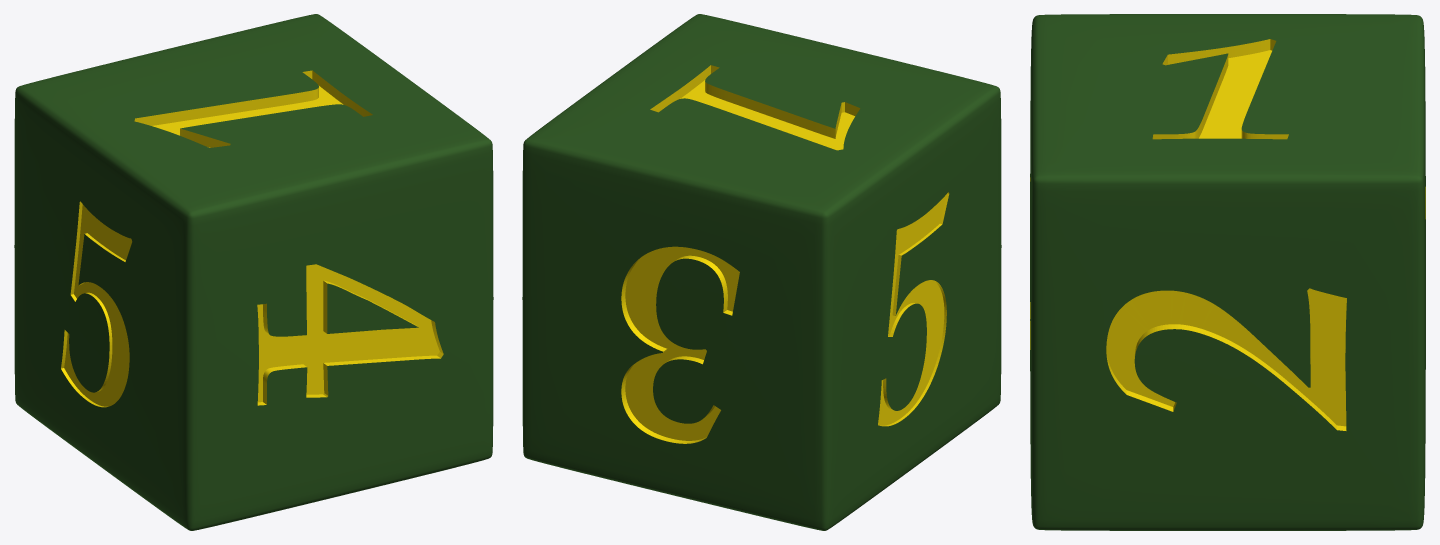
3 renders of one model, left to right at view 1: azimuth 30°, elevation 25°; view 2: azimuth 150°, elevation 25°; view 3: azimuth 270°, elevation 25°, orthographic. The views are drawn at different scales.
Visible parts, largest first — view 1: D6; view 2: D6; view 3: D6.
Part boxes in pixels (<box>): D6: <box>14,14,493,530</box>; D6: <box>522,14,1001,530</box>; D6: <box>1030,14,1425,530</box>.
Size of what is drawn, in the model's own units: 0.0254 by 0.0254 by 0.0254.
